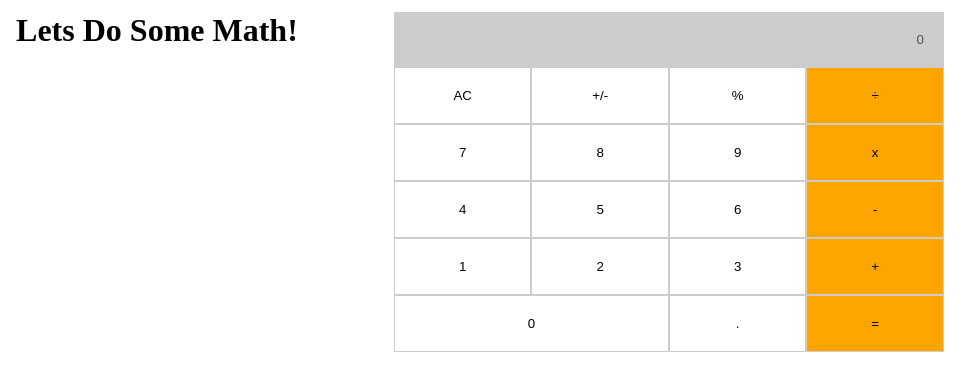
it: Testing Calculator component › Testing calculator component user interaction for adding two numbers
Step 1. Click the button "7" → (463, 152), box top-left (394, 124), bottom-right (531, 181)
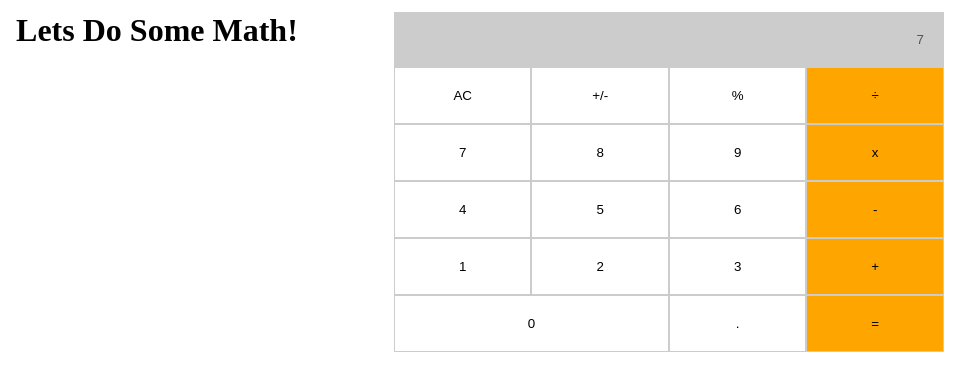
Step 2. Click the button "+" → (875, 266), box top-left (806, 238), bottom-right (944, 295)
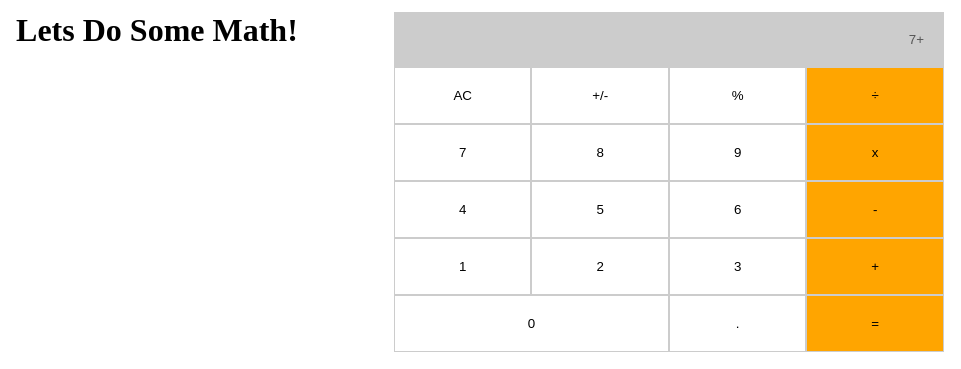
Step 3. Click the button "8" → (600, 152), box top-left (531, 124), bottom-right (669, 181)
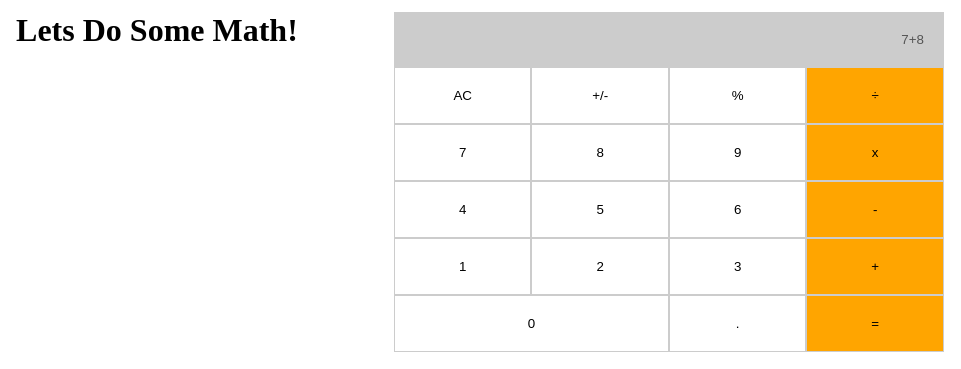
Step 4. Click the button "=" → (875, 324), box top-left (806, 295), bottom-right (944, 352)
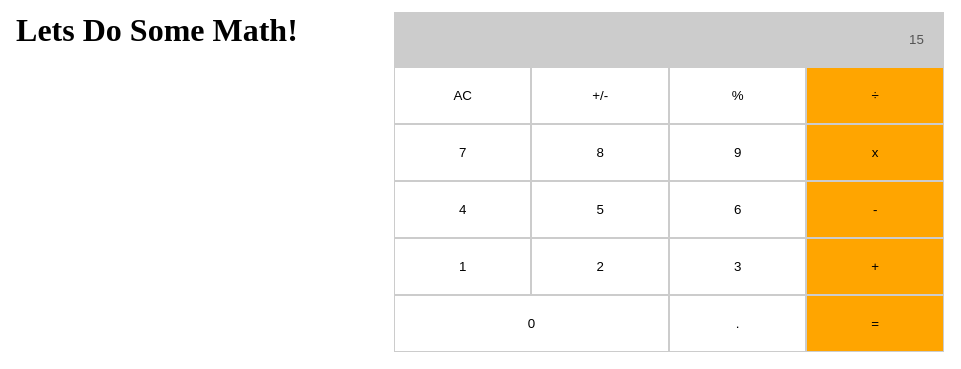
Expected: the field with test id "resultInput" holds "15", top-left (394, 12), bottom-right (944, 67)
